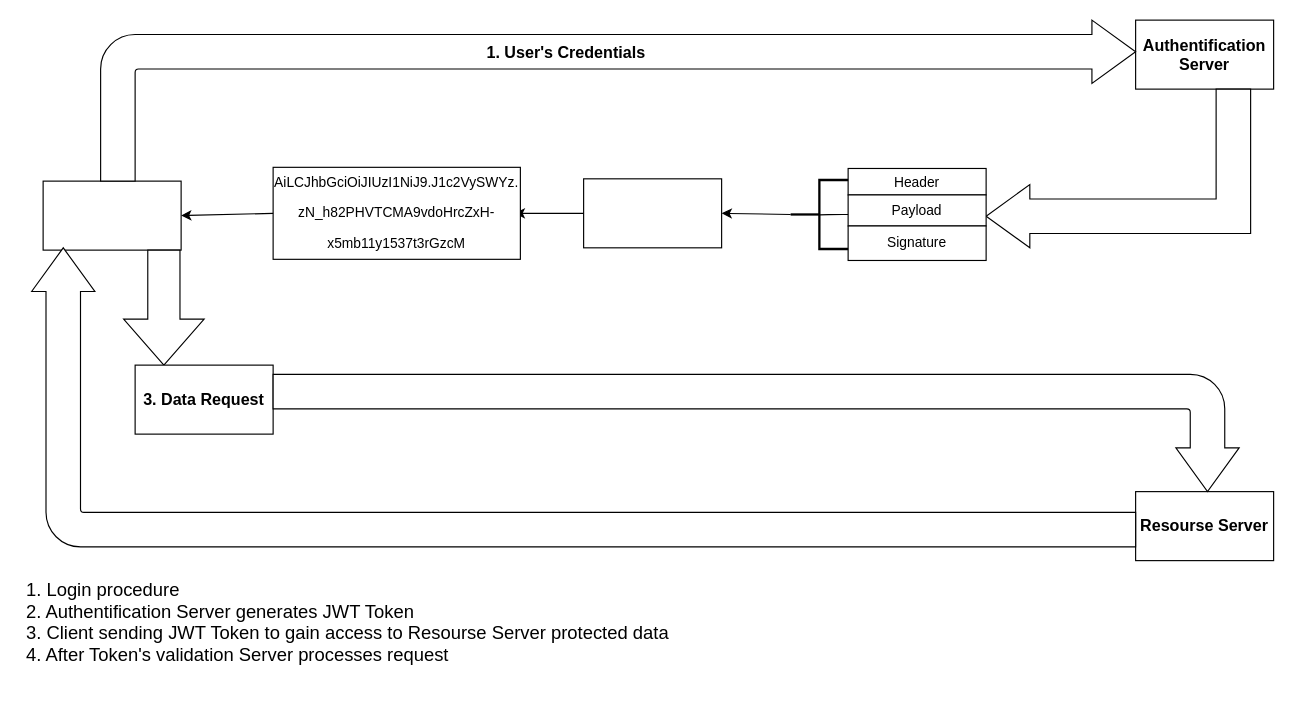
Some shapes in this 1294 by 716 pixel diagram are drawn without their labels. The shapes that lost their labels are listed below. From the top down, each one's centre as x and y in pixels, then its label:
[1118,168]: 2. Generated JWT Token
[111,215]: Client
[652,213]: HMACSHA256 + SecretKey
[583,397]: 4. Protected Route, AuthorizedData
